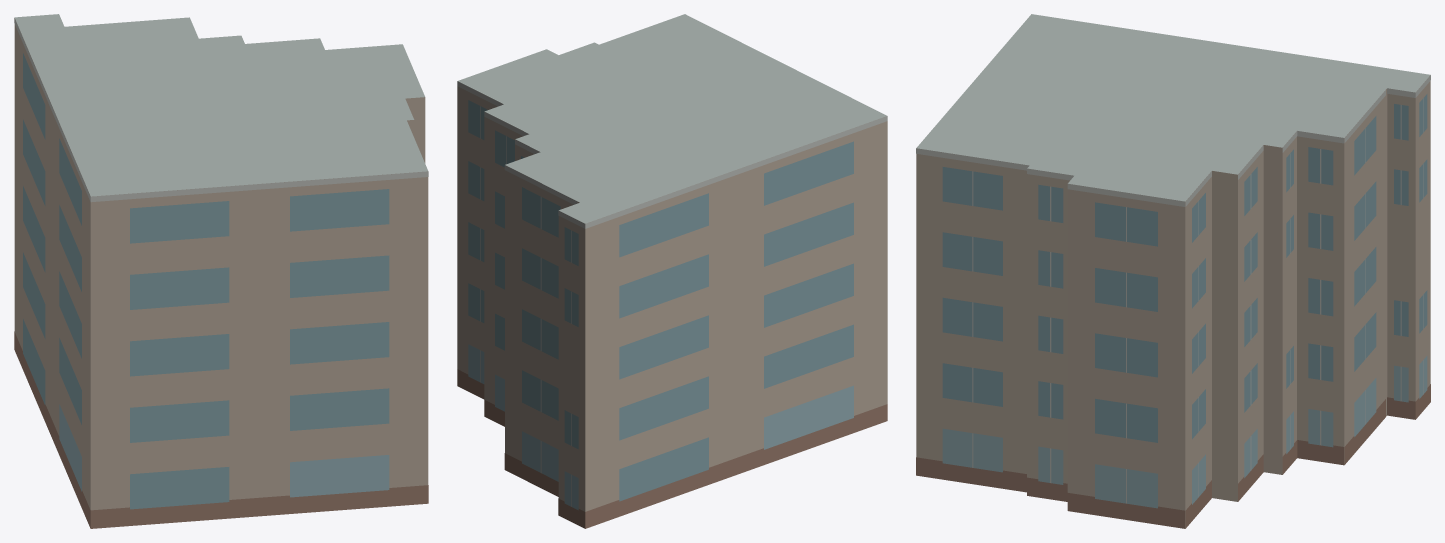
The model's file is survey-upis-32594649.glb.
The picture shows the model from 3 angles, left to right: view 1: azimuth 30°, elevation 25°; view 2: azimuth 150°, elevation 25°; view 3: azimuth 270°, elevation 25°; orthographic projection. The views are drawn at different scales.
Visible parts, largest first — view 1: survey-upis-32594649.tmp; view 2: survey-upis-32594649.tmp; view 3: survey-upis-32594649.tmp.
Part boxes in pixels (x1,y1,x2,y2): survey-upis-32594649.tmp: [14, 14, 428, 528]; survey-upis-32594649.tmp: [457, 14, 887, 528]; survey-upis-32594649.tmp: [916, 14, 1430, 528].
Bounding box in the file's own units: 17.71 × 14.4 × 20.53.
